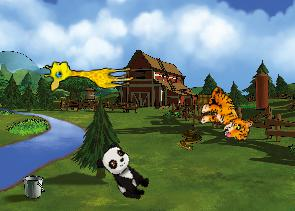giraffe: (43, 55, 134, 92)
panda: (92, 140, 156, 205)
tiger: (194, 84, 260, 144)
